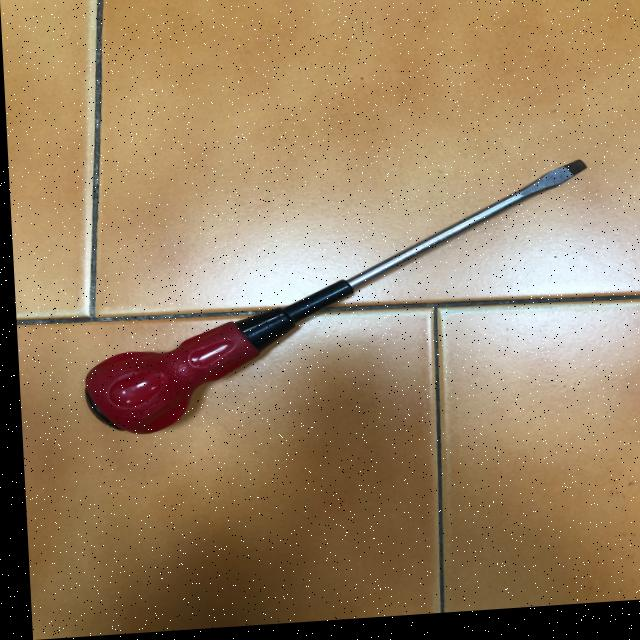Screwdriver: (81, 168, 583, 435)
